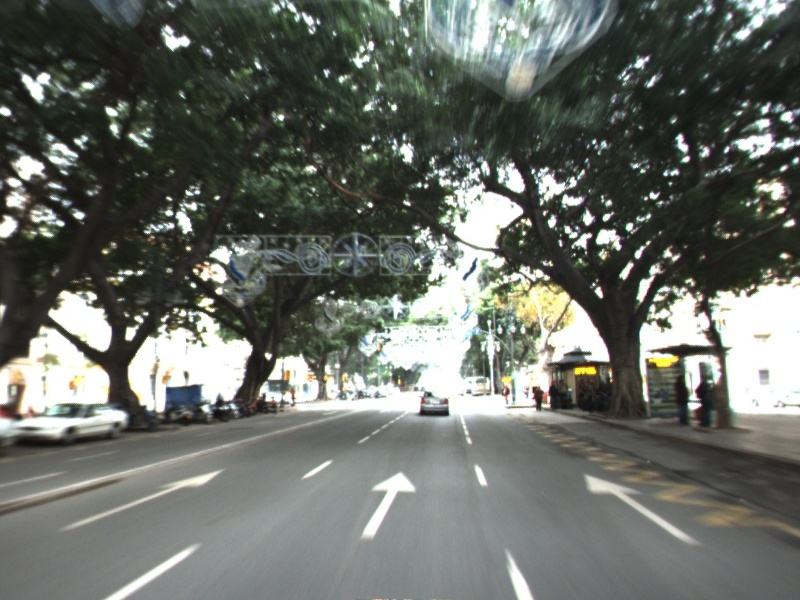STRAIGHT: (55, 466, 229, 534), (581, 471, 708, 548), (358, 469, 419, 542)
